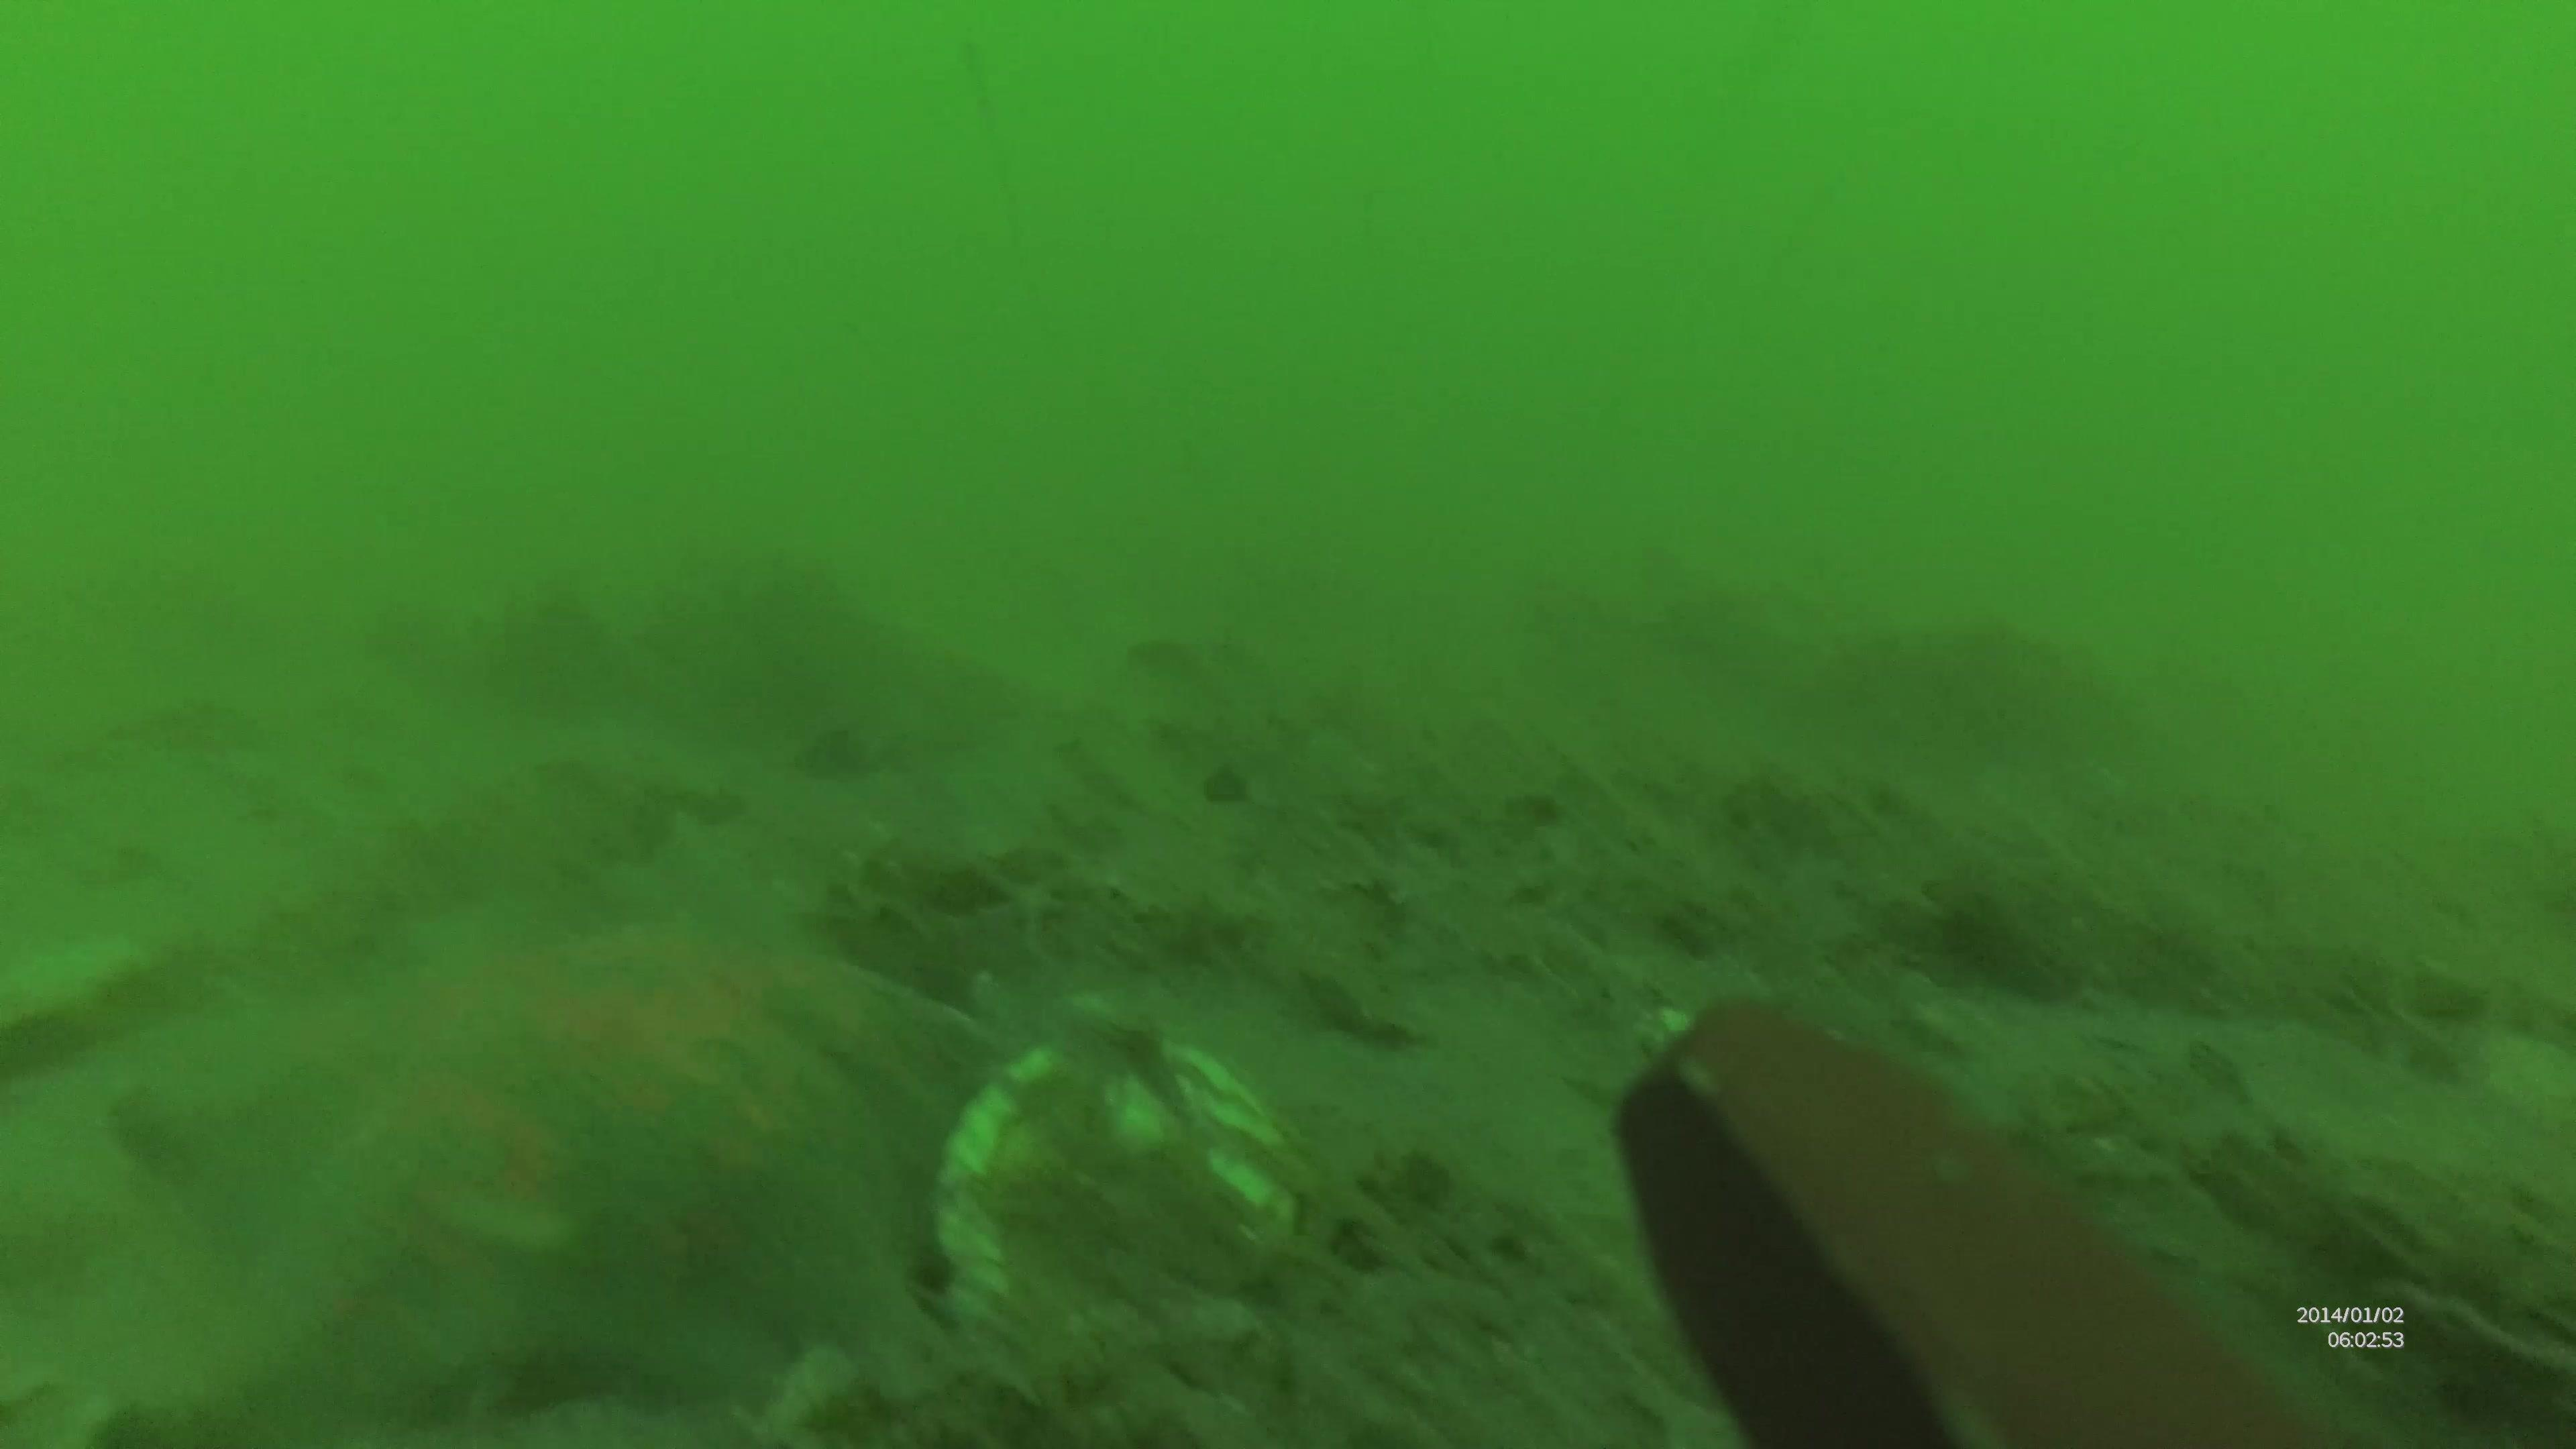scallop: (936, 1039, 1307, 1371)
starfish: (106, 916, 977, 1407)
